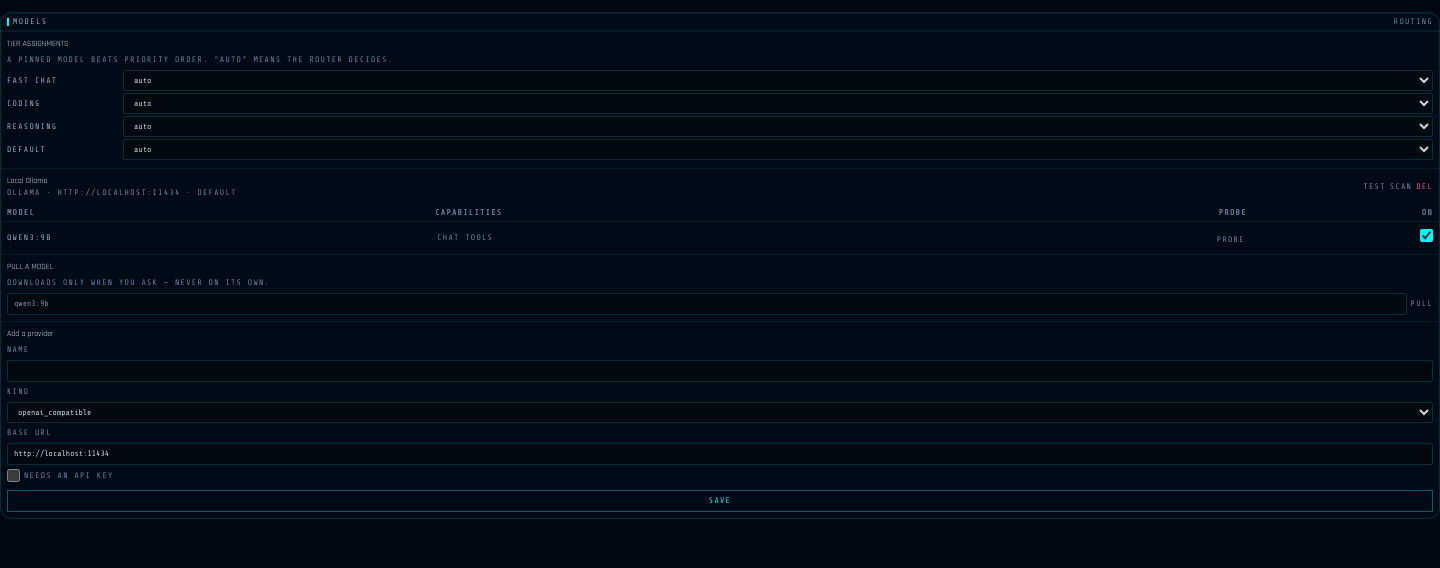
ModelsPanel probing › shows a refusal as the instruction it is
Click the button with aria-label "Probe capabilities" at coordinates (1231, 240), box [1217,234,1245,246]
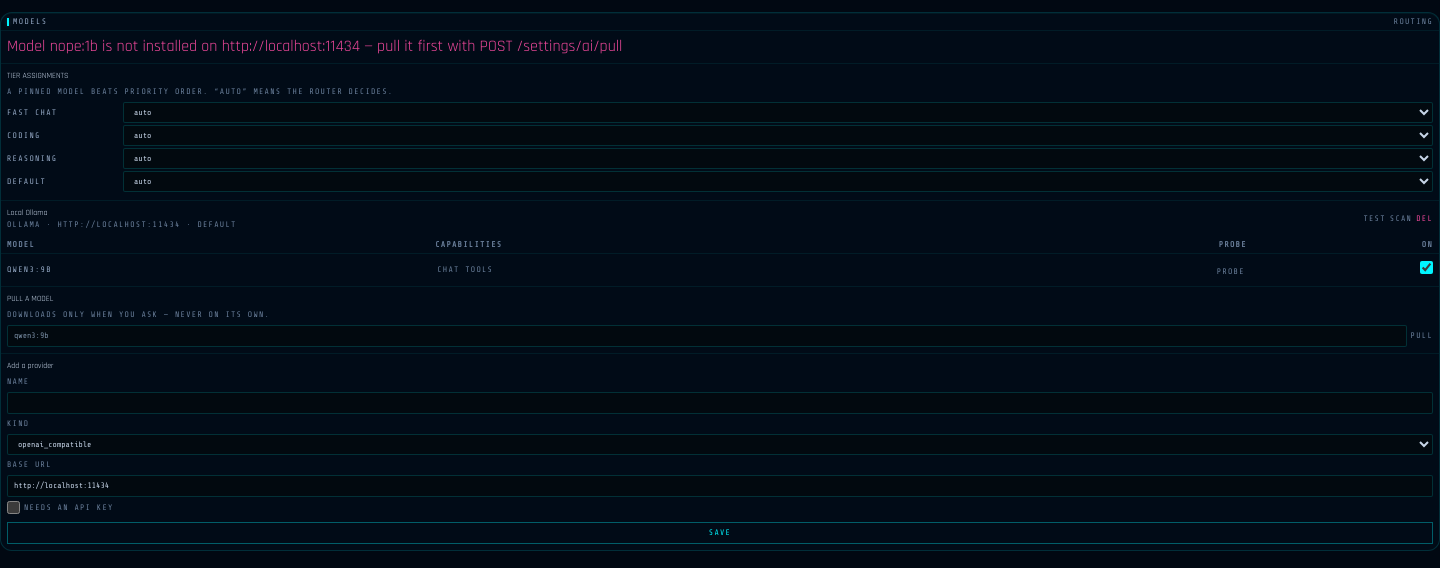
Expected: the message shows "pull it first", [7,36,622,57]
